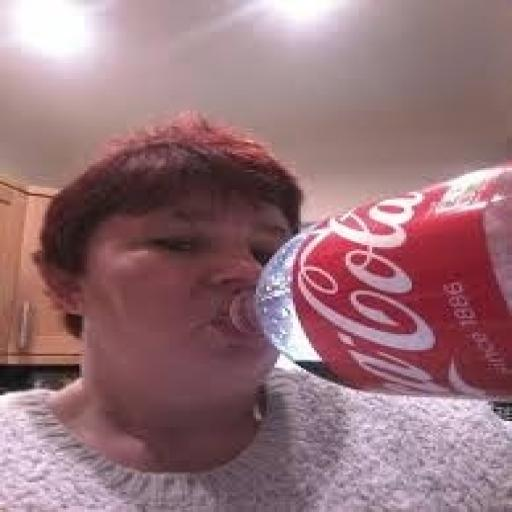drinking: (0, 61, 462, 512)
